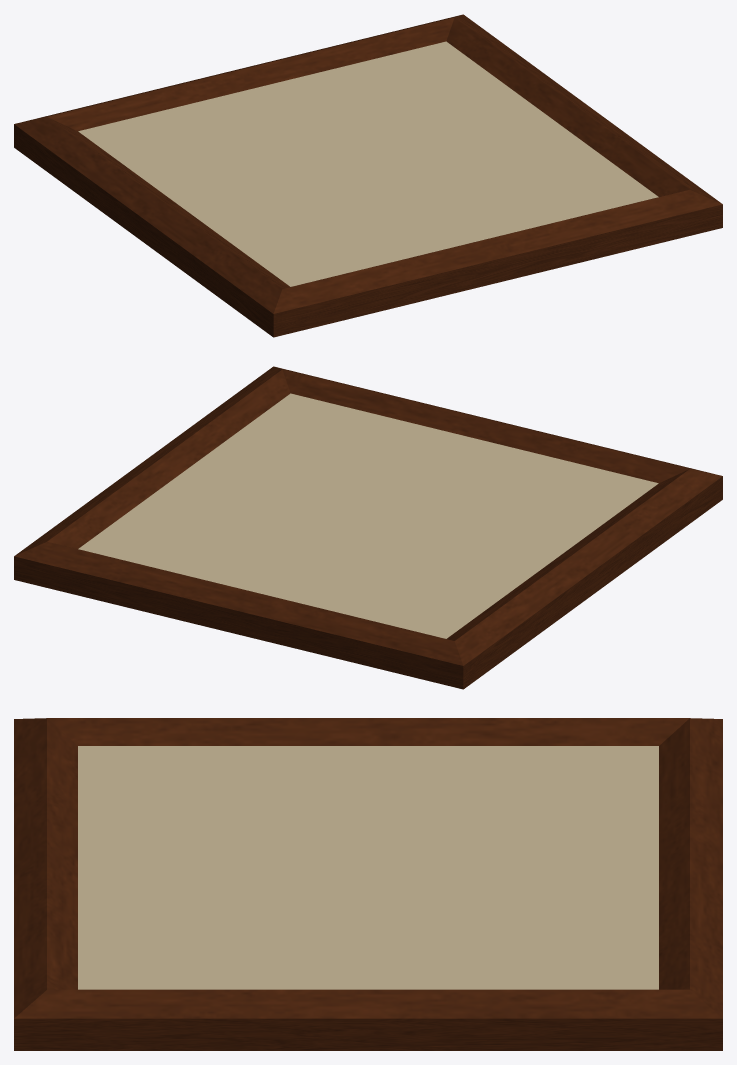
The model's file is marco.fbx.
3 renders of one model, top to bottom at view 1: azimuth 30°, elevation 25°; view 2: azimuth 150°, elevation 25°; view 3: azimuth 270°, elevation 25°, orthographic. The views are drawn at different scales.
Parts seen in each view (by area): view 1: Cube; view 2: Cube; view 3: Cube.
Boxes of the visible parts, x1,y1,x2,y2 form: Cube: [14, 14, 722, 337]; Cube: [14, 366, 722, 689]; Cube: [14, 718, 722, 1050].
Size of the model in its own units: 200 by 200 by 14.64.
